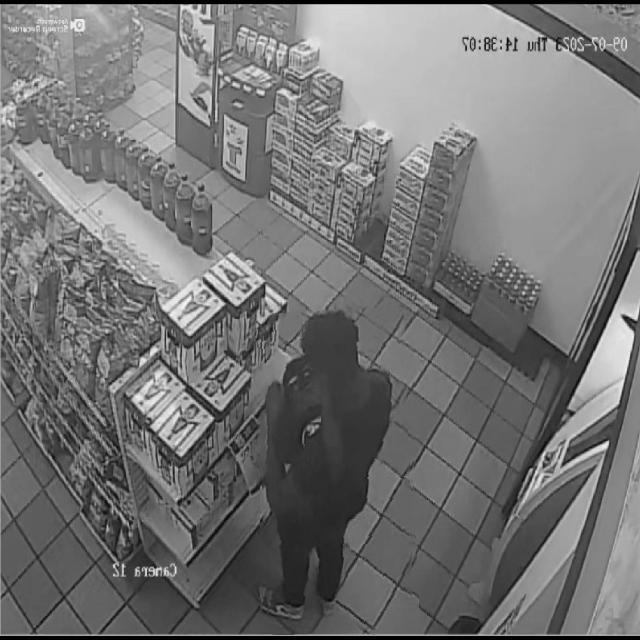Shoplifting: (260, 307, 416, 634)
